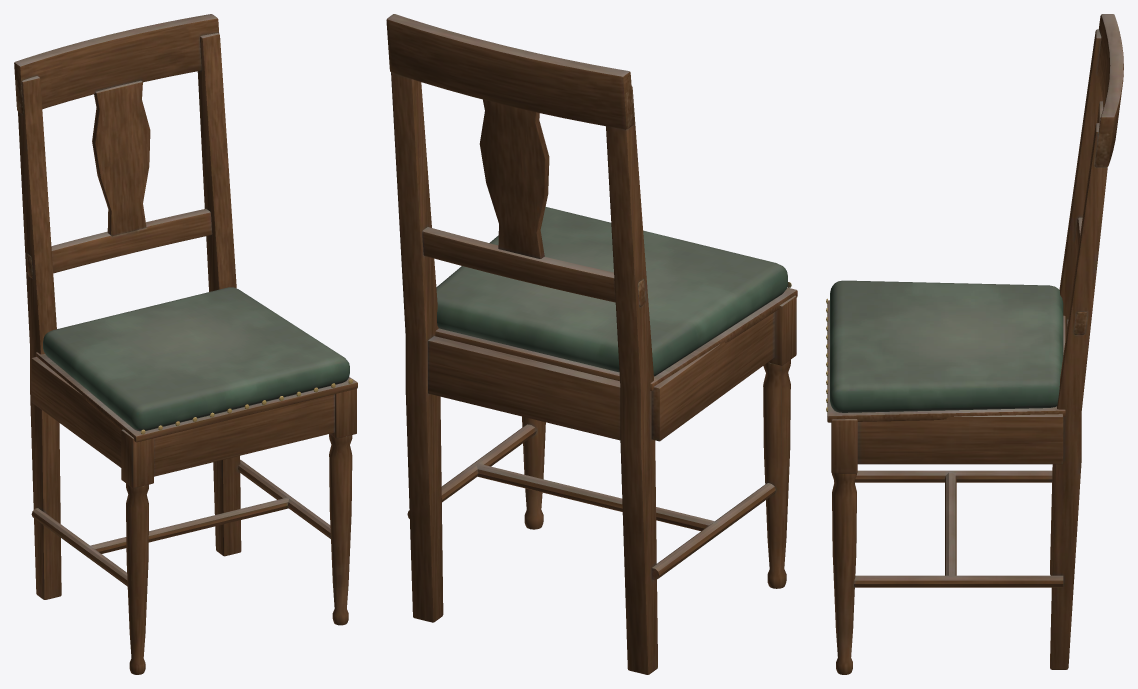
File: cadeira.glb
3 renders of one model, left to right at view 1: azimuth 30°, elevation 25°; view 2: azimuth 150°, elevation 25°; view 3: azimuth 270°, elevation 25°, orthographic. The views are drawn at different scales.
Visible parts, largest first — view 1: armacao, assento; view 2: armacao, assento; view 3: armacao, assento.
Boxes of the visible parts, x1,y1,x2,y2 form: armacao: (14,14,356,674); assento: (35,287,357,442); armacao: (386,14,796,674); assento: (435,207,797,390); armacao: (831,14,1123,674); assento: (826,280,1065,422).
Bounding box in the file's own units: 0.42 × 0.925 × 0.4511.
Materials: 1 (1 with a texture image).
